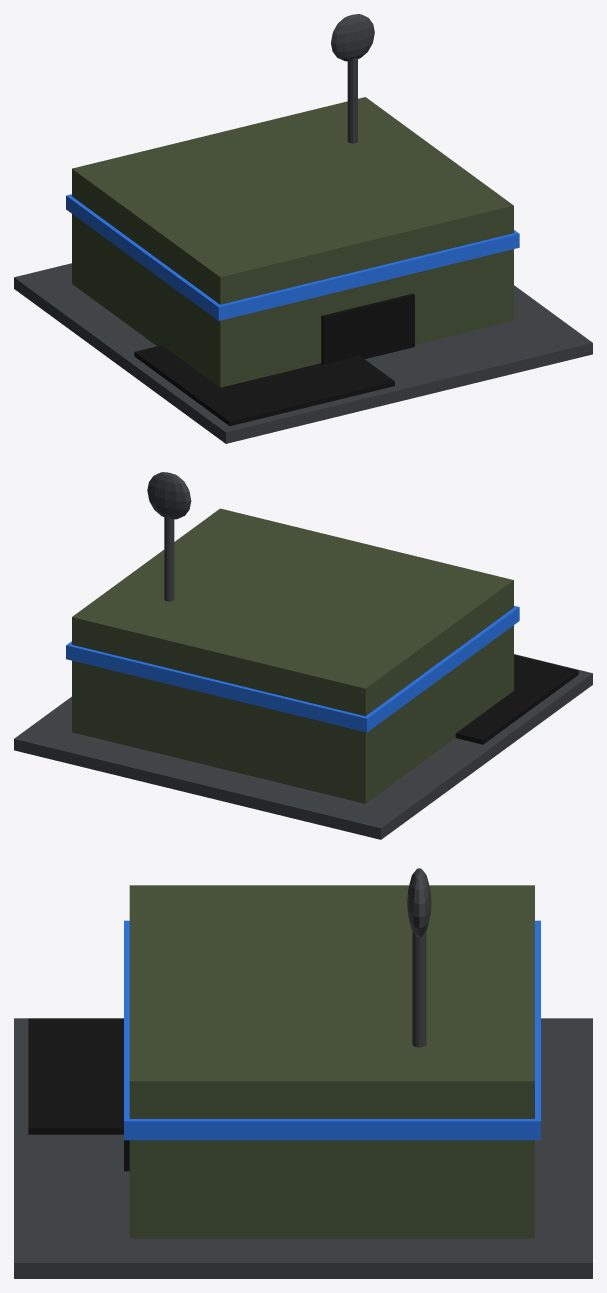
File: kp_drone_launch_site.glb
3 views of the same model, one above another, from view 1: azimuth 30°, elevation 25°; view 2: azimuth 150°, elevation 25°; view 3: azimuth 270°, elevation 25° (orthographic). The views are drawn at different scales.
Parts seen in each view (by area): view 1: main, base, pad, team_band, door, dish, mast; view 2: main, base, team_band, pad, dish, mast; view 3: main, base, team_band, pad, mast, dish.
Part boxes in pixels (x1=…): main: x1=72, y1=97, x2=513, y2=387; base: x1=14, y1=263, x2=592, y2=443; pad: x1=134, y1=345, x2=394, y2=425; team_band: x1=66, y1=194, x2=519, y2=320; door: x1=321, y1=293, x2=414, y2=364; dish: x1=331, y1=14, x2=374, y2=61; mast: x1=347, y1=58, x2=357, y2=143; main: x1=72, y1=508, x2=513, y2=803; base: x1=14, y1=654, x2=592, y2=839; team_band: x1=66, y1=606, x2=519, y2=732; pad: x1=455, y1=654, x2=578, y2=744; dish: x1=147, y1=472, x2=191, y2=519; mast: x1=164, y1=516, x2=174, y2=601; main: x1=129, y1=885, x2=534, y2=1238; base: x1=14, y1=1018, x2=592, y2=1278; team_band: x1=124, y1=920, x2=540, y2=1140; pad: x1=28, y1=1018, x2=123, y2=1134; mast: x1=412, y1=931, x2=426, y2=1047; dish: x1=407, y1=868, x2=431, y2=937.
Bounding box in the file's own units: 10 × 6.6 × 10.
